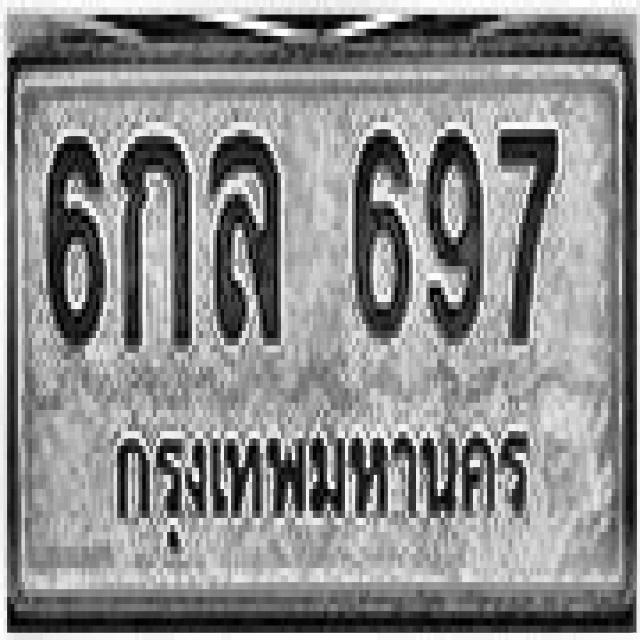license-plate: (9, 38, 631, 612)
